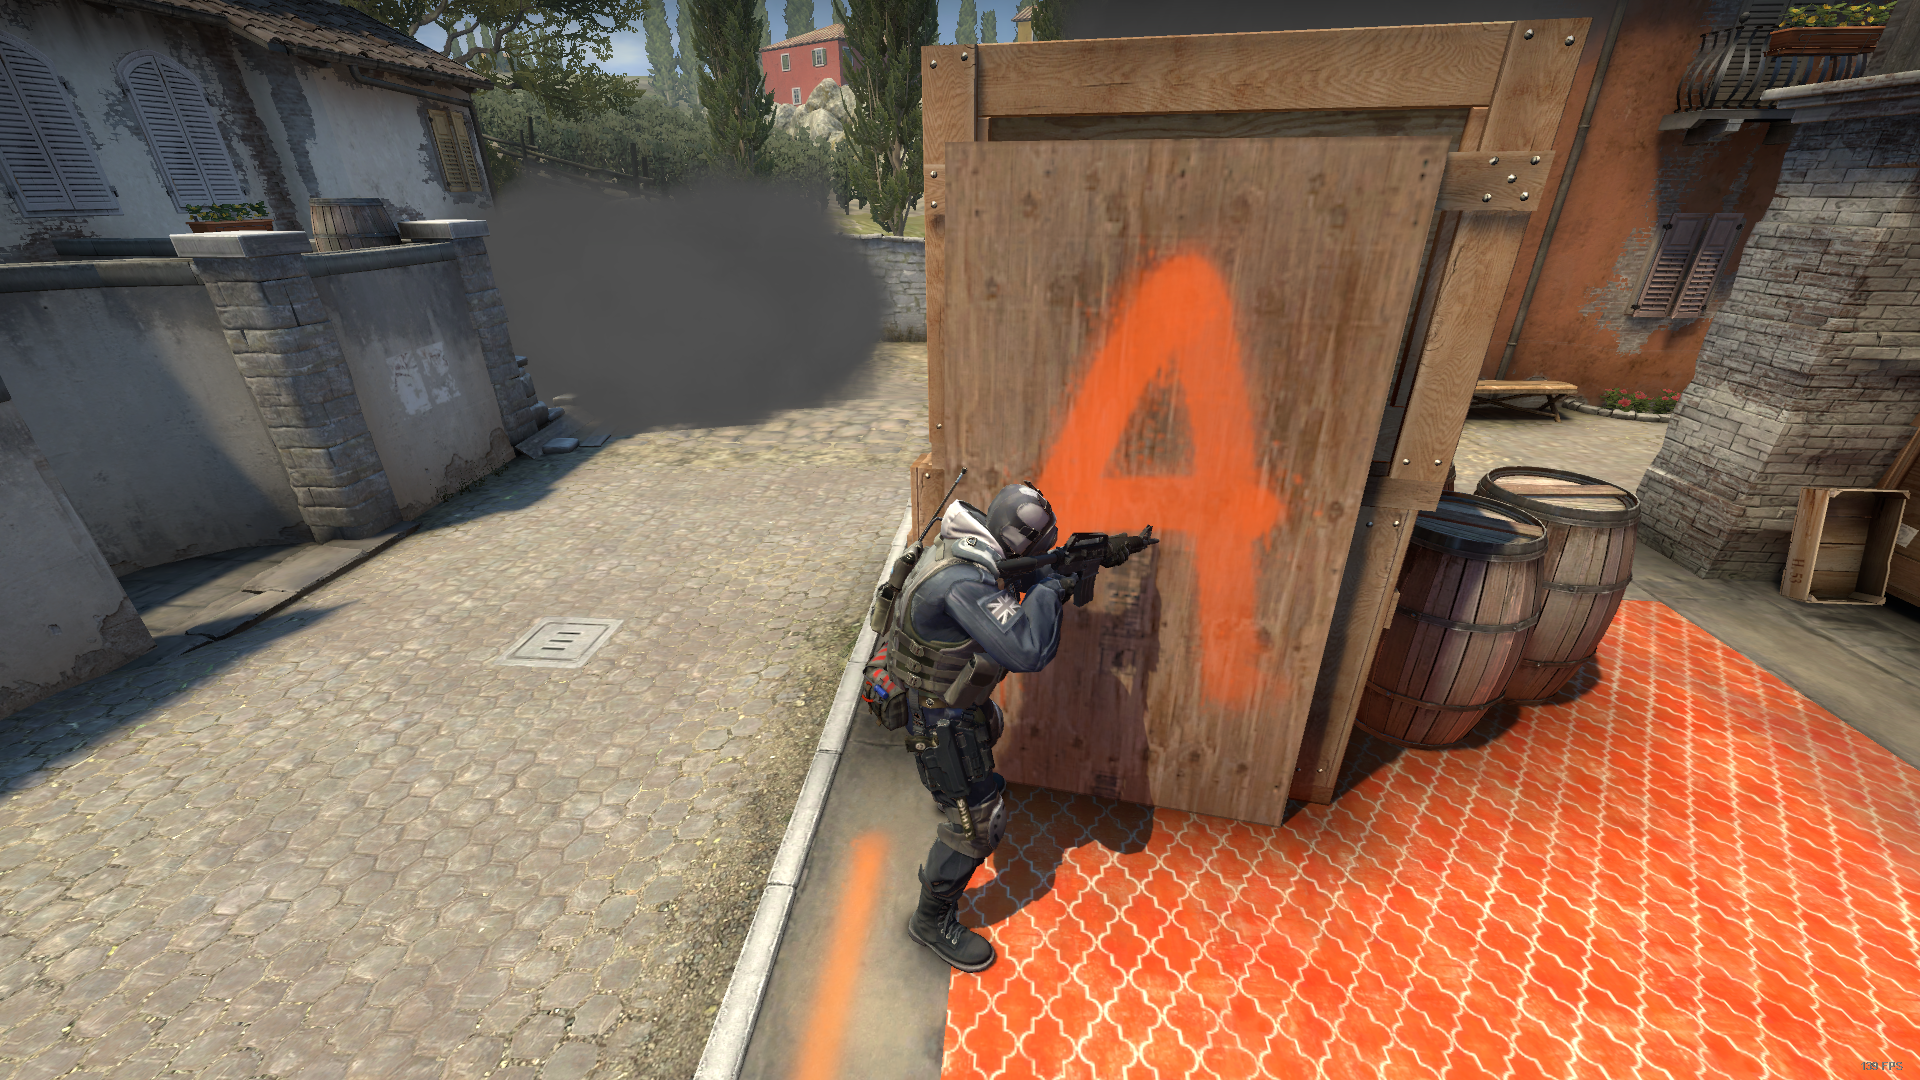ct: (873, 481, 1079, 973)
